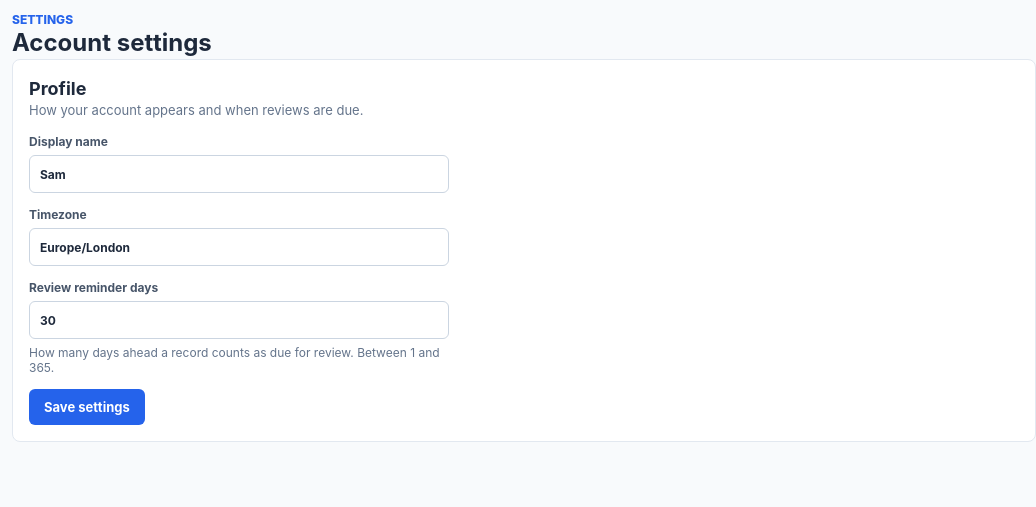
Test: settings page › adopts the reminder window the server stored
The width and height of the screenshot is (1036, 507).
Replace the text in the number field labelled "Review reminder days" with "120": (239, 320) [29, 301, 449, 339]
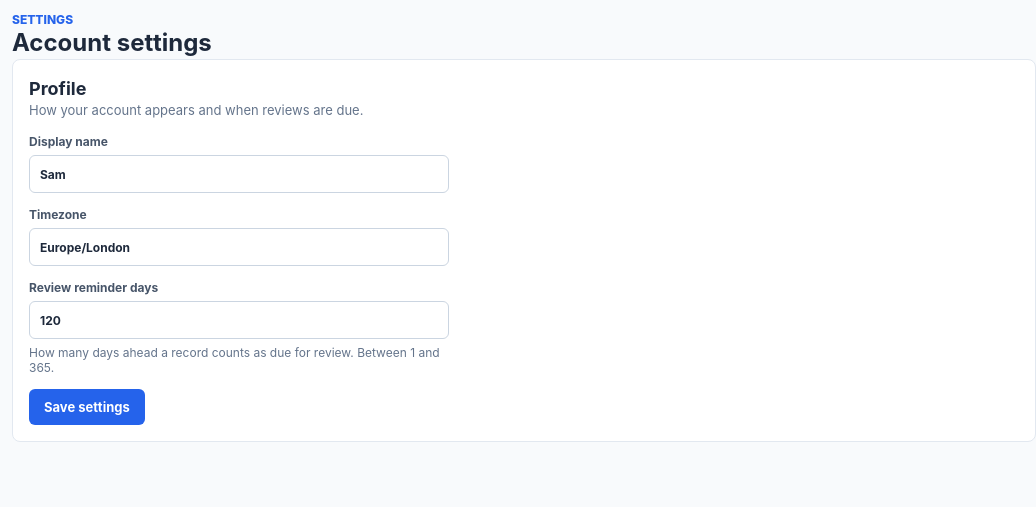
Click the button "Save settings": (87, 407) [29, 389, 145, 425]
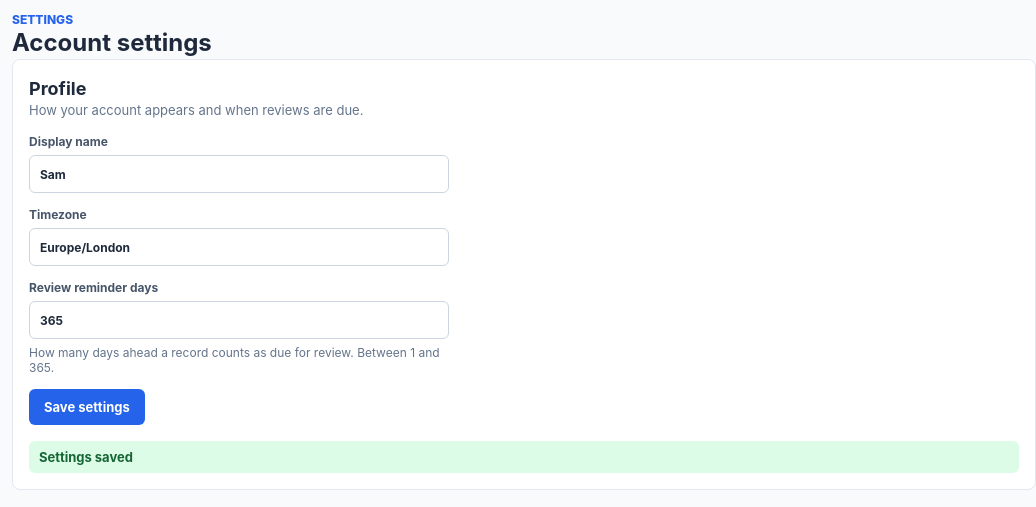
Check: the number field labelled "Review reminder days" holds "365", box [29, 301, 449, 339]
